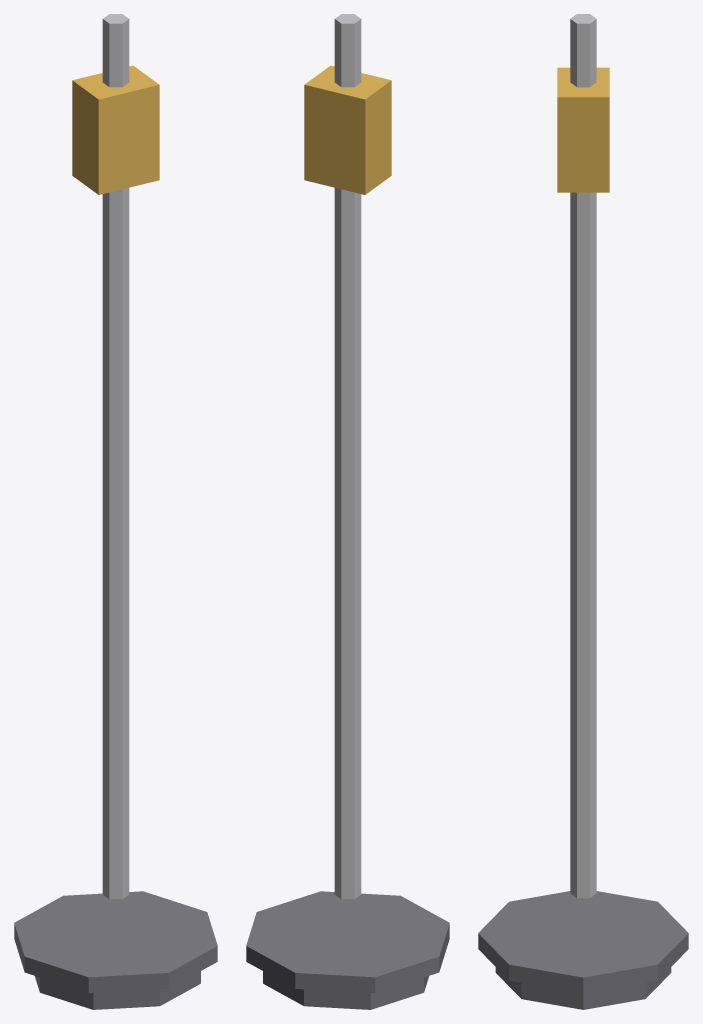
The model's file is trimmer.glb.
3 views of the same model, side by side, from view 1: azimuth 30°, elevation 25°; view 2: azimuth 150°, elevation 25°; view 3: azimuth 270°, elevation 25° (orthographic).
Visible parts, largest first — view 1: Trimmer; view 2: Trimmer; view 3: Trimmer.
Part boxes in pixels (<box>): Trimmer: <box>14,14,217,1009</box>; Trimmer: <box>246,14,449,1009</box>; Trimmer: <box>478,14,688,1009</box>.
Size of the model in its own units: 0.24 by 1.2 by 0.24.
